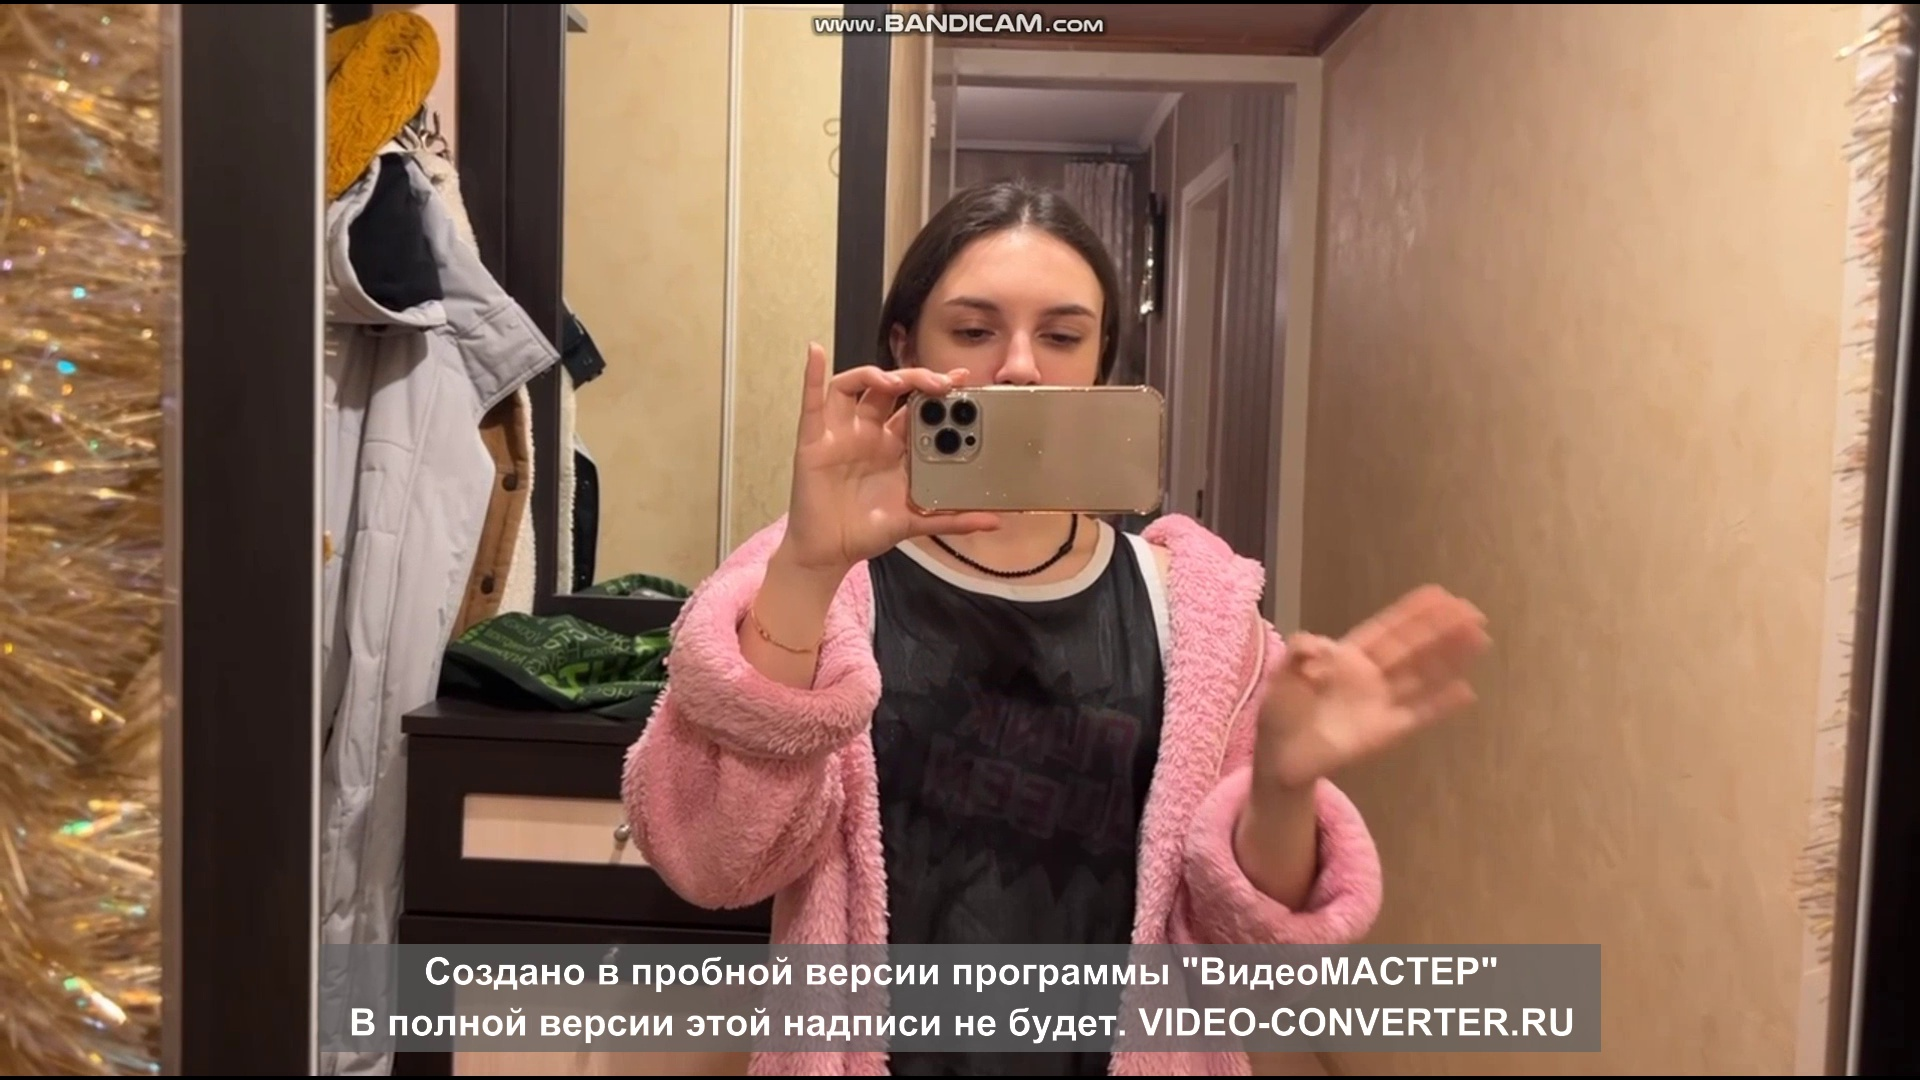Ладонь: (1259, 585, 1486, 790)
